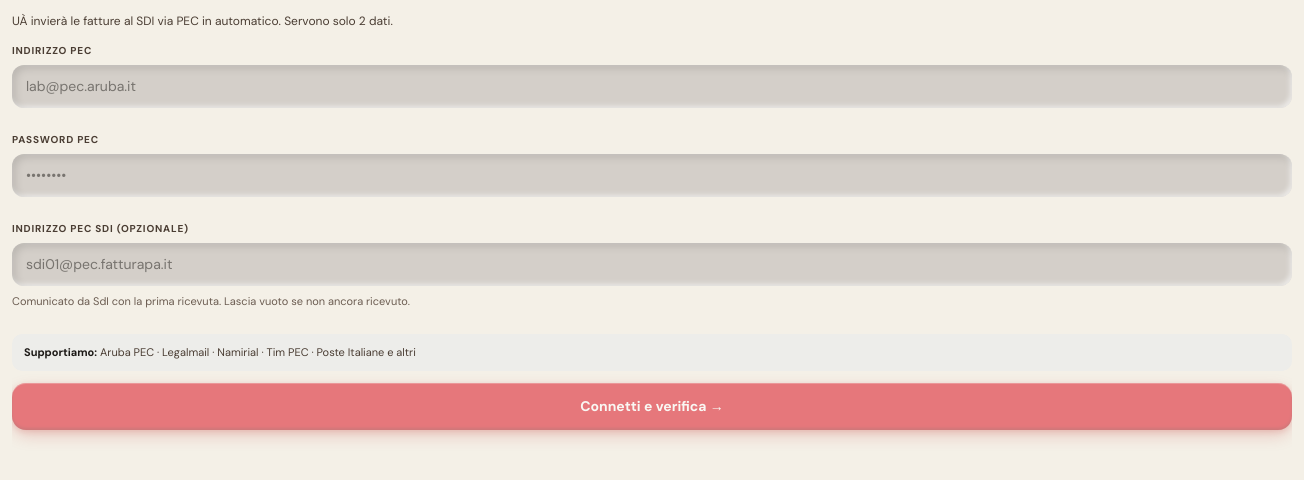
Test: PecSetupWidget — campo Indirizzo PEC SdI (D-6) › PATCH in errore → feedback visibile (non silenzioso)
The image size is (1304, 480).
In the field with placeholder "sdi01@pec.fatturapa.it": (652, 265) [12,243,1292,286], type "sdi99@pec.fatturapa.it"
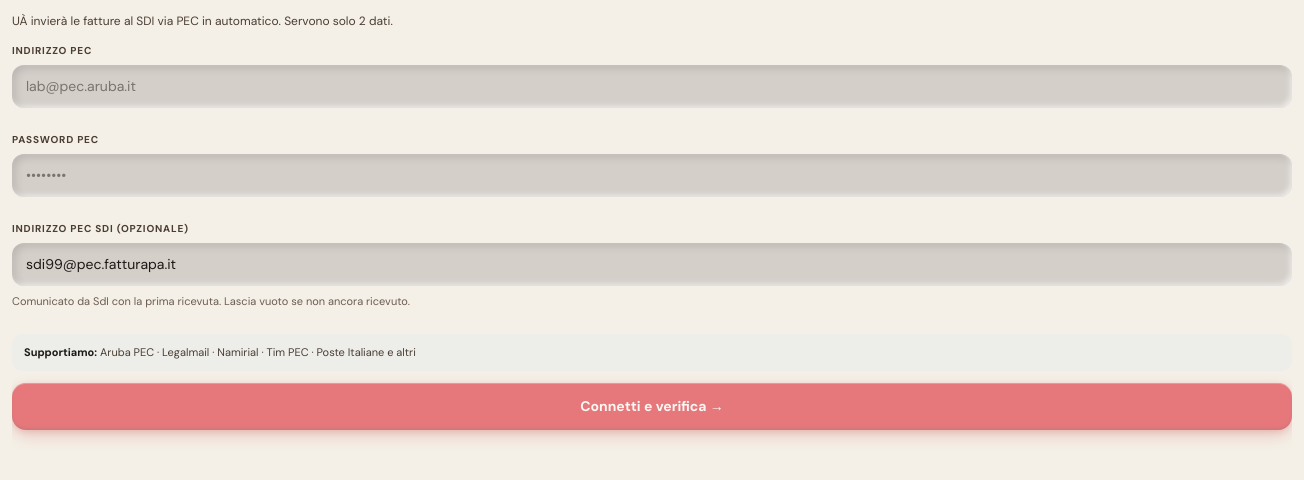
Leave the field with placeholder "sdi01@pec.fatturapa.it", box [12,243,1292,286]
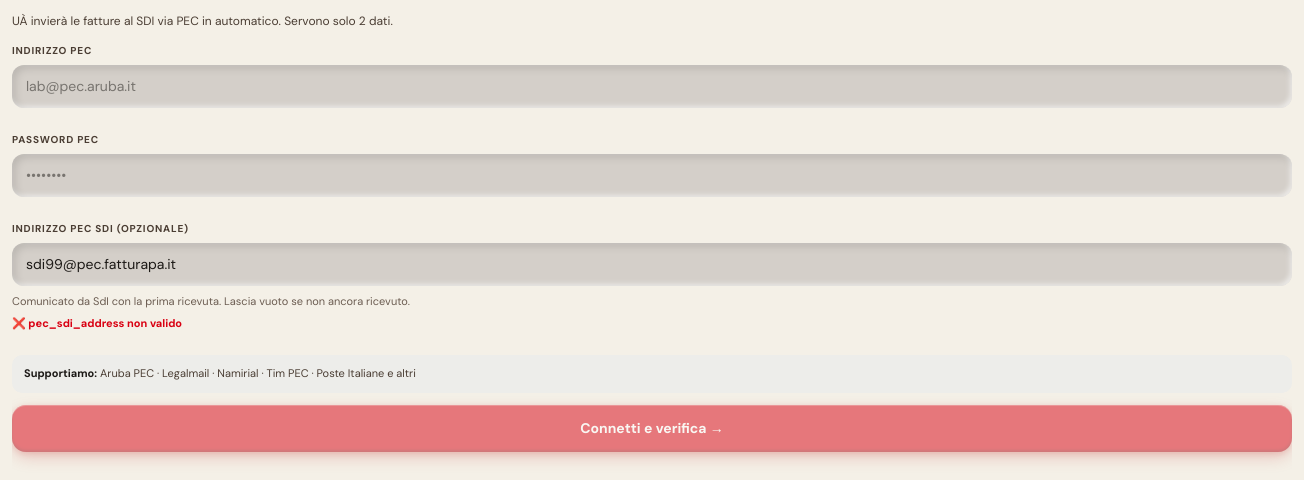
Now the text "❌ pec_sdi_address non valido" is shown, box [12,316,182,330]
